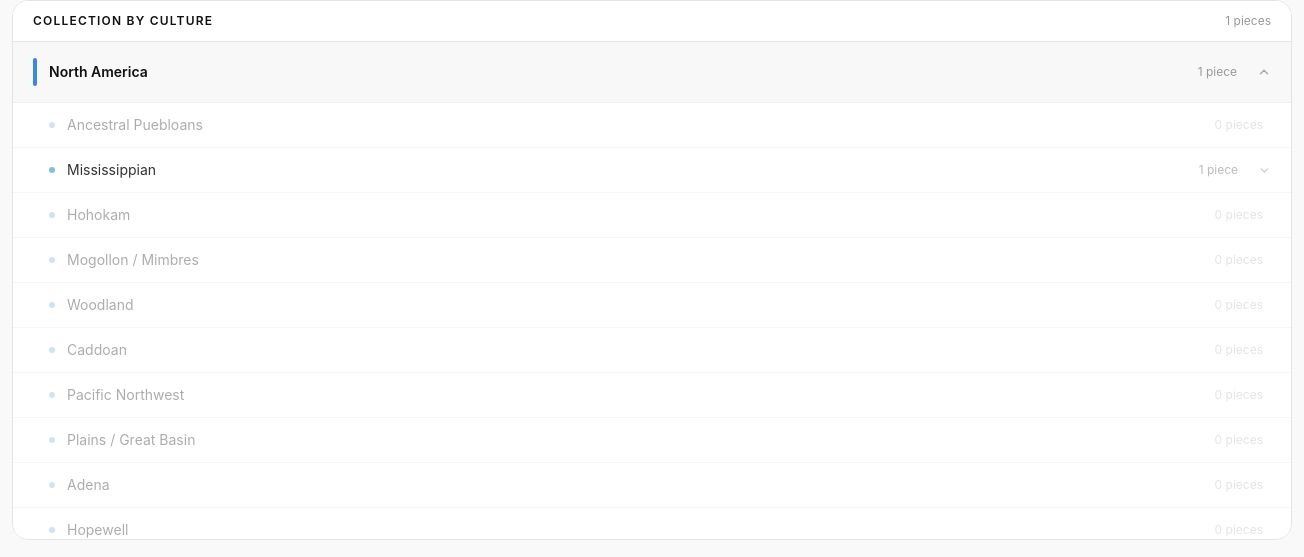
Test: InventoryTree › re-expands a region and re-collapses a culture after toggling twice
Click the button "North America 1 piece" at (98, 72), box top-left (13, 42), bottom-right (1291, 102)
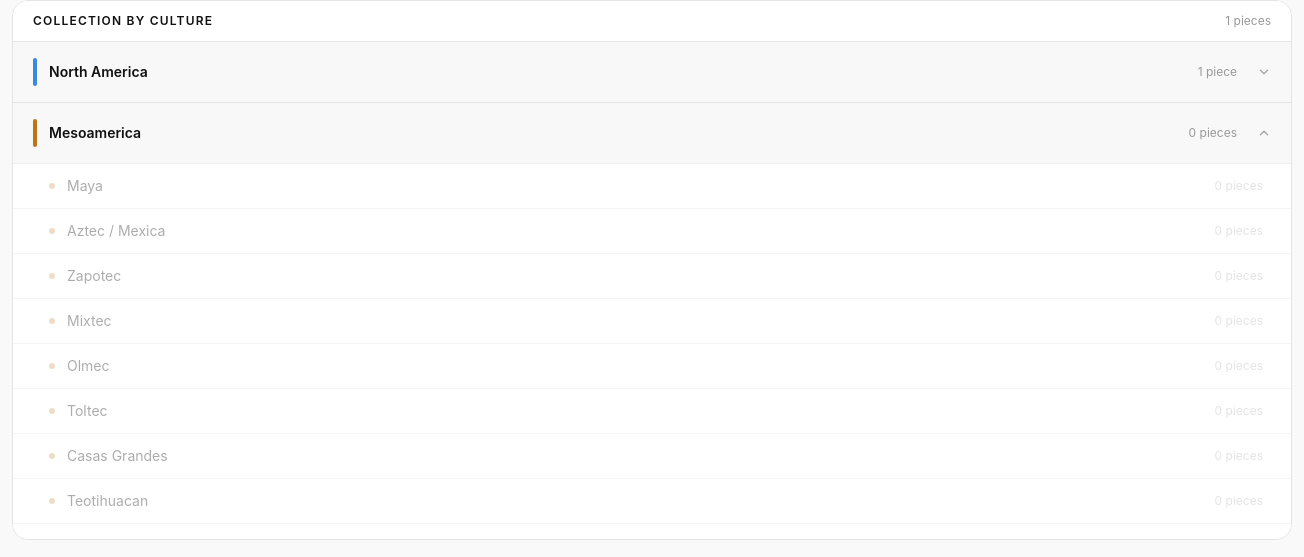
Click the button "North America 1 piece" at (98, 72), box top-left (13, 42), bottom-right (1291, 102)
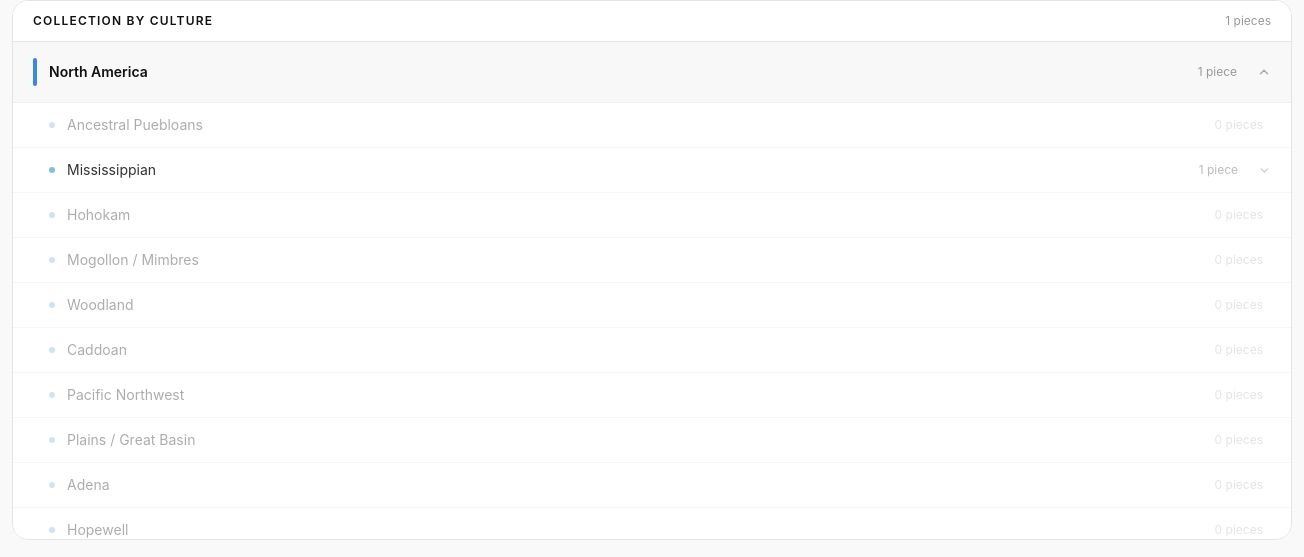
Check: the text "Mississippian" is shown
Click the text "Mississippian" at (112, 170), box top-left (67, 161), bottom-right (156, 178)
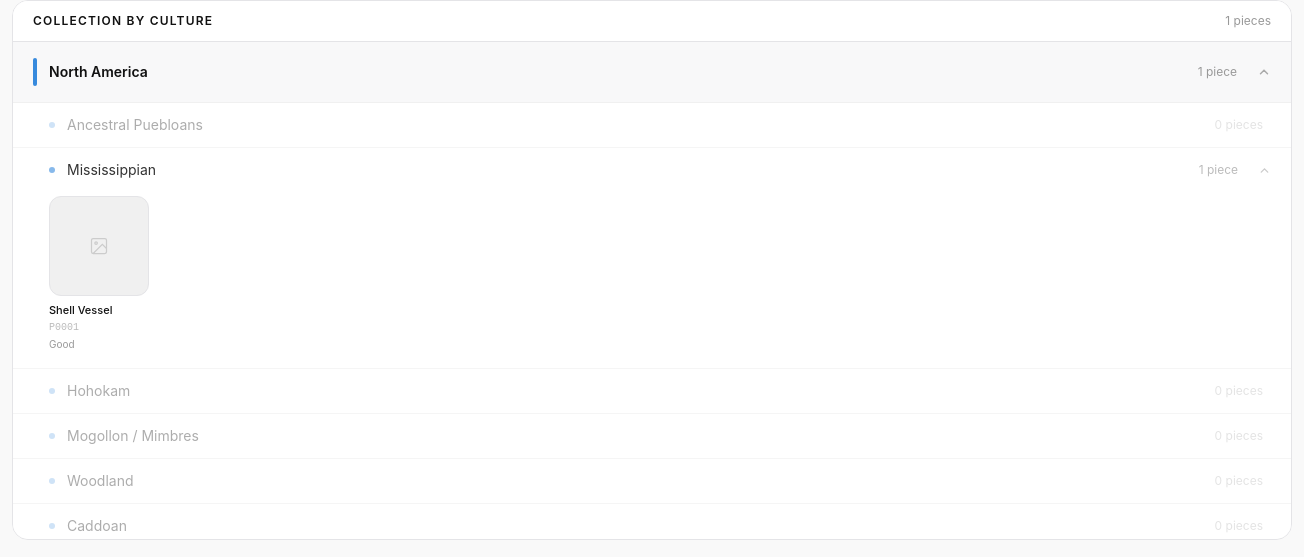
Check: the text "Shell Vessel" is shown, box top-left (49, 303), bottom-right (112, 317)
Click the text "Mississippian" at (112, 170), box top-left (67, 161), bottom-right (156, 178)
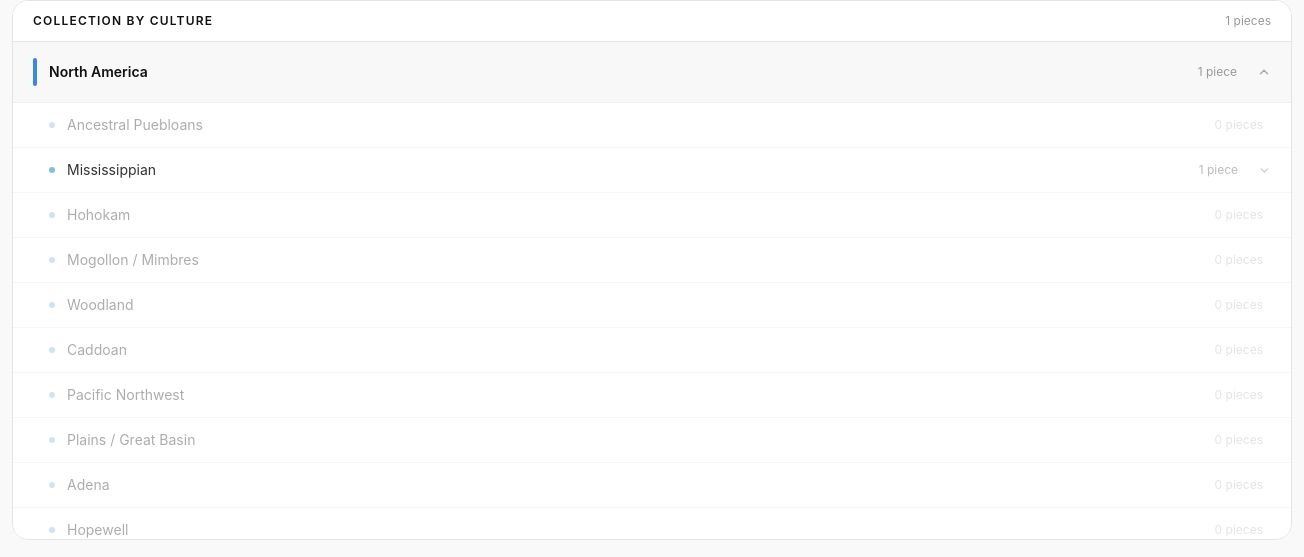
Check: the link "Shell Vessel" is gone
